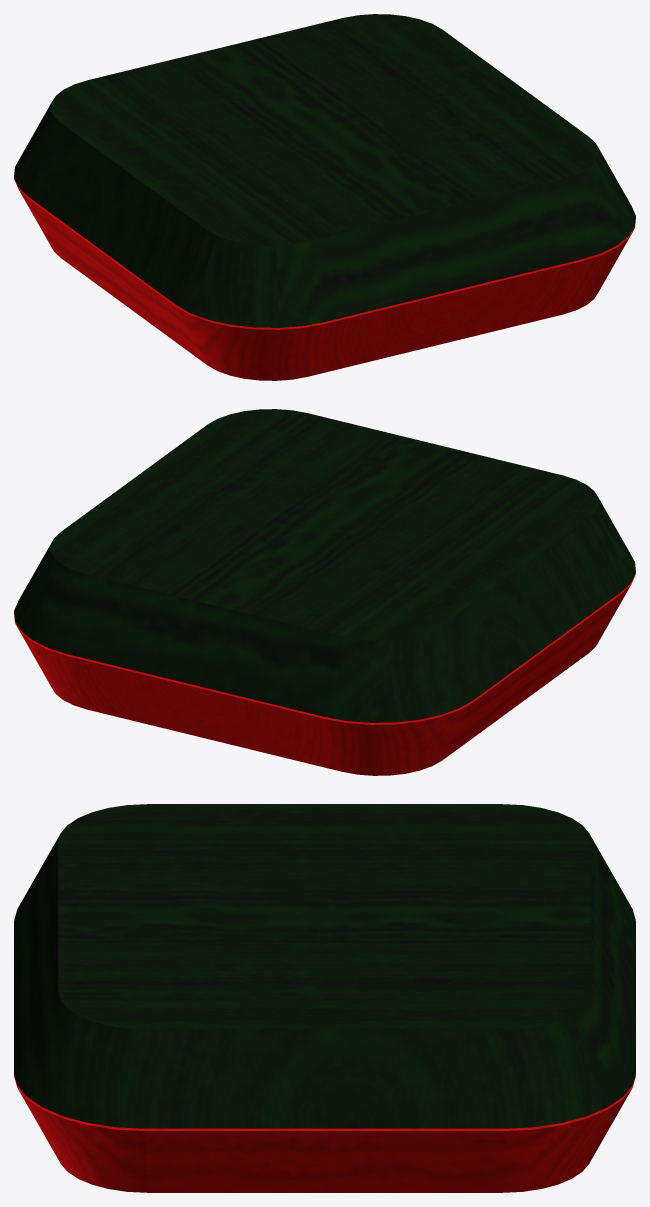
Rendered from animation.glb.
The picture shows the model from 3 angles, top to bottom: view 1: azimuth 30°, elevation 25°; view 2: azimuth 150°, elevation 25°; view 3: azimuth 270°, elevation 25°; orthographic projection. The views are drawn at different scales.
Visible parts, largest first — view 1: Rectangle1-mesh, Rectangle0-mesh; view 2: Rectangle1-mesh, Rectangle0-mesh; view 3: Rectangle1-mesh, Rectangle0-mesh.
Boxes of the visible parts, <box> form: Rectangle1-mesh: <box>14,14,635,327</box>; Rectangle0-mesh: <box>14,177,635,380</box>; Rectangle1-mesh: <box>14,409,635,722</box>; Rectangle0-mesh: <box>14,572,635,775</box>; Rectangle1-mesh: <box>14,804,635,1128</box>; Rectangle0-mesh: <box>14,1074,635,1192</box>.
Bounding box in the file's own units: 0.07 × 0.0203 × 0.07.
2 materials, 2 textured.
